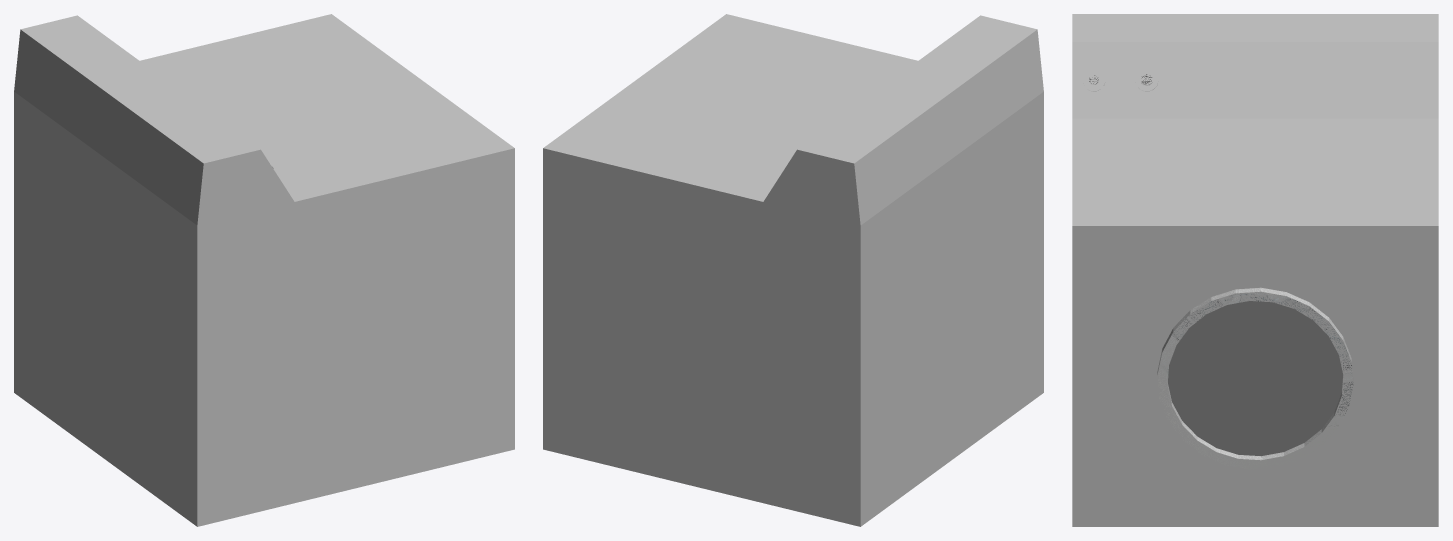
3 renders of one model, left to right at view 1: azimuth 30°, elevation 25°; view 2: azimuth 150°, elevation 25°; view 3: azimuth 270°, elevation 25°, orthographic.
Visible parts, largest first — view 1: mesh1_mesh1-geometry; view 2: mesh1_mesh1-geometry; view 3: mesh1_mesh1-geometry.
Part boxes in pixels (x1=…): mesh1_mesh1-geometry: x1=14, y1=14, x2=514, y2=526; mesh1_mesh1-geometry: x1=543, y1=14, x2=1043, y2=526; mesh1_mesh1-geometry: x1=1072, y1=14, x2=1438, y2=526.
Bounding box in the file's own units: 0.5701 × 0.6051 × 0.5557.
